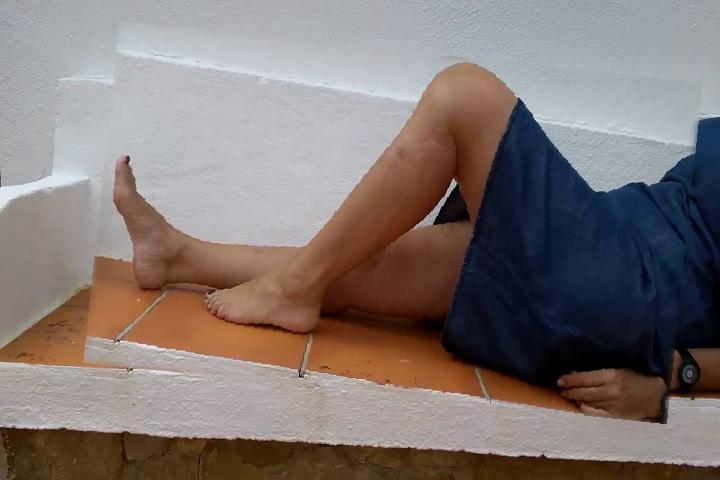lowerbody: (92, 37, 695, 411)
